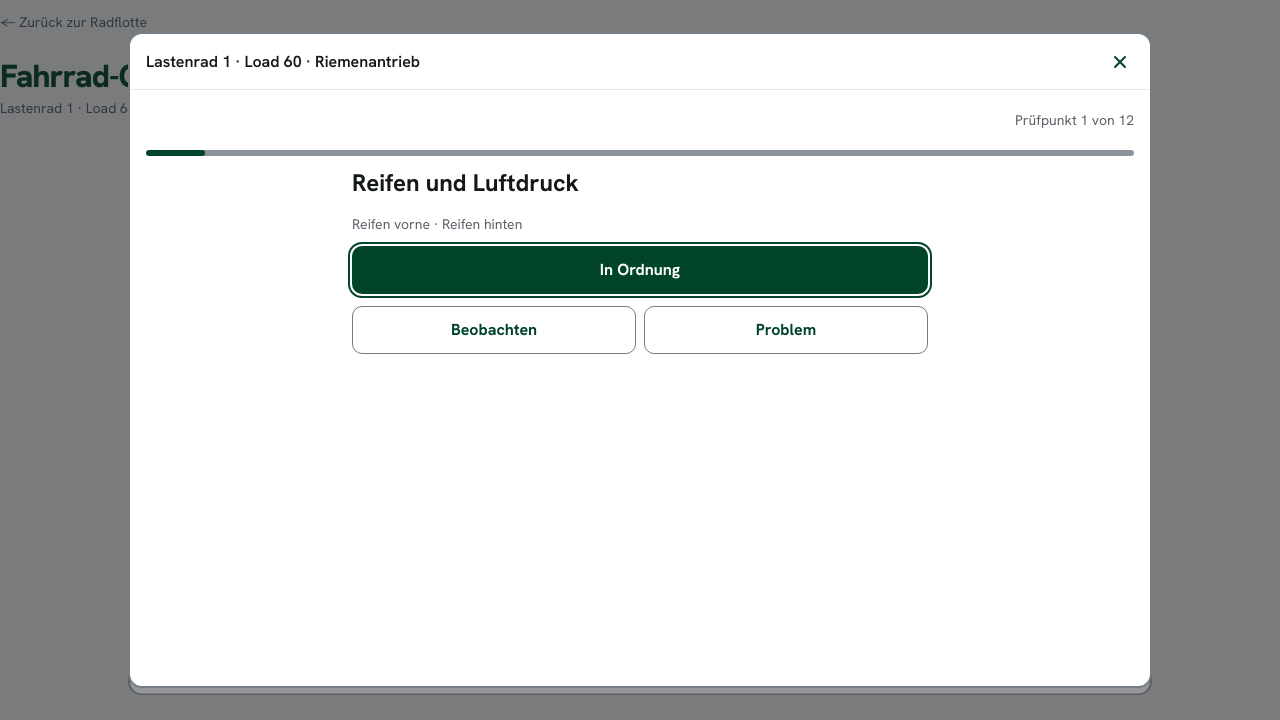
Test case: Geführter Check-Up › fragt bei einem Punkt mit nur einem Bauteil nicht „Wo genau?“; zurück ohne Stelle und Antwort
Click the button "In Ordnung": (640, 270) [352,246,928,294]
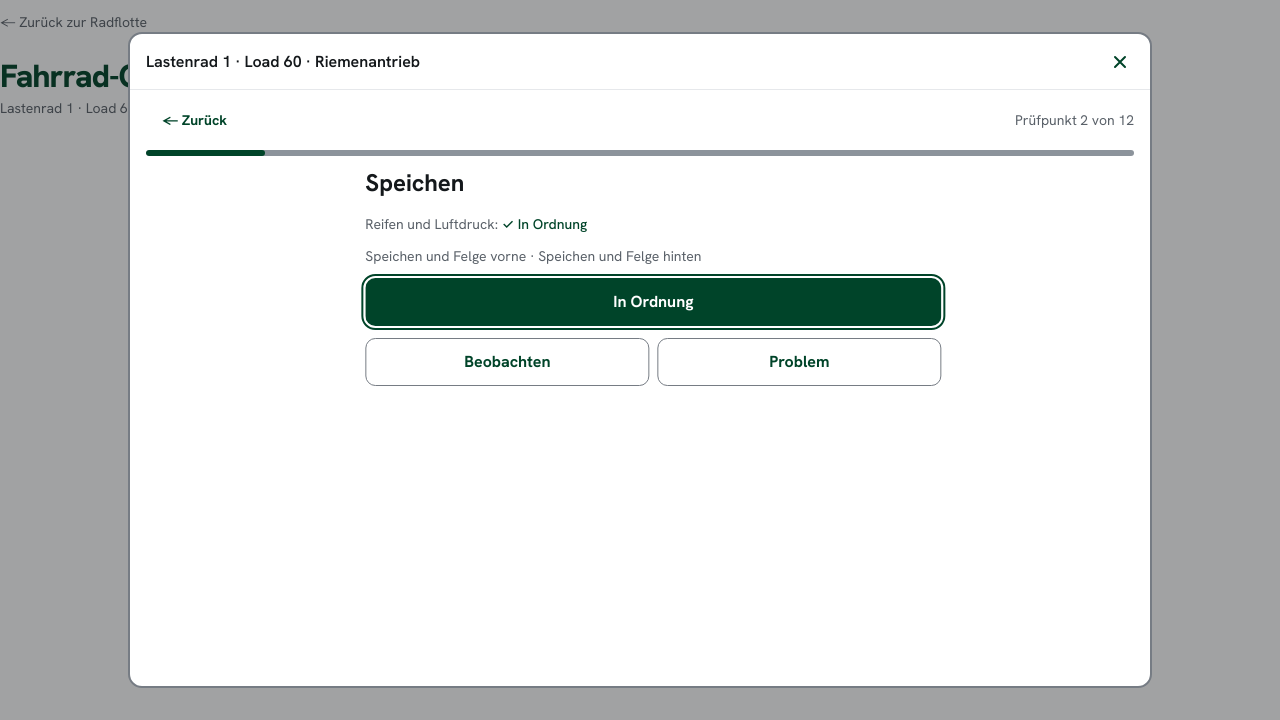
Click the button "In Ordnung" below "Prüfpunkt 2 von 12": (644, 302) [356,278,932,326]
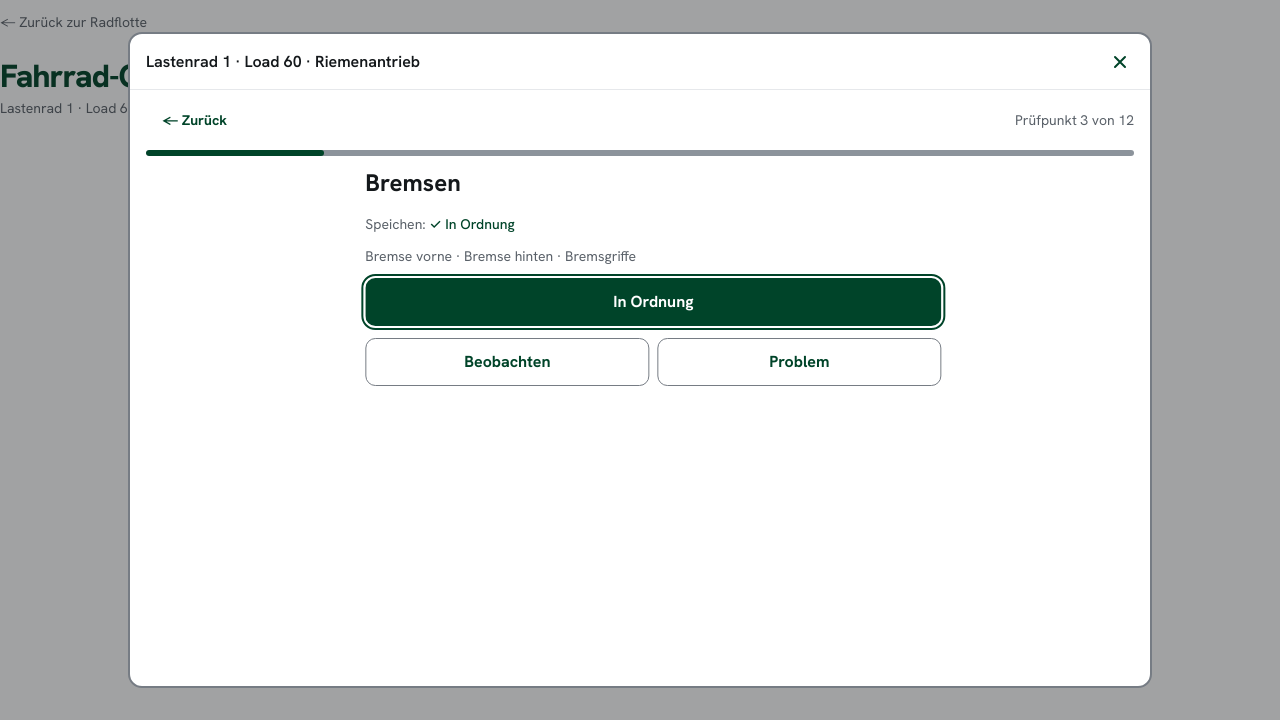
Click the button "In Ordnung": (644, 302) [356,278,932,326]
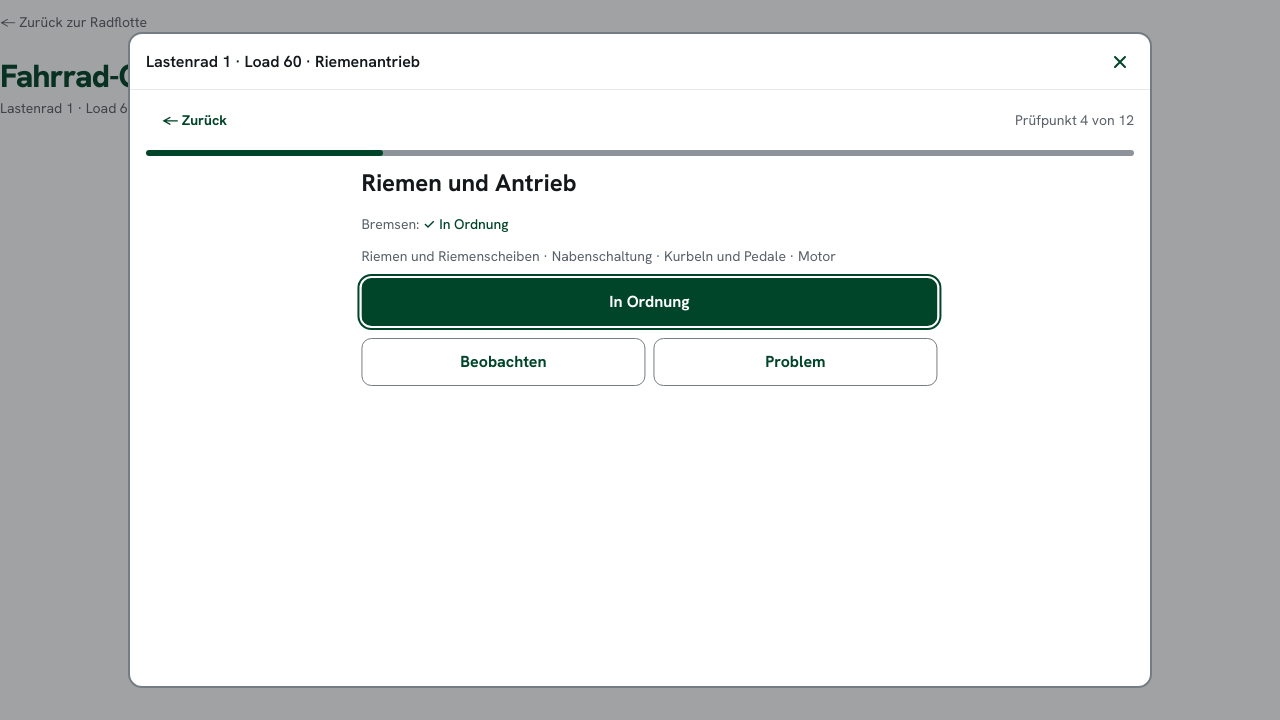
Click the button "In Ordnung": (644, 302) [356,278,932,326]
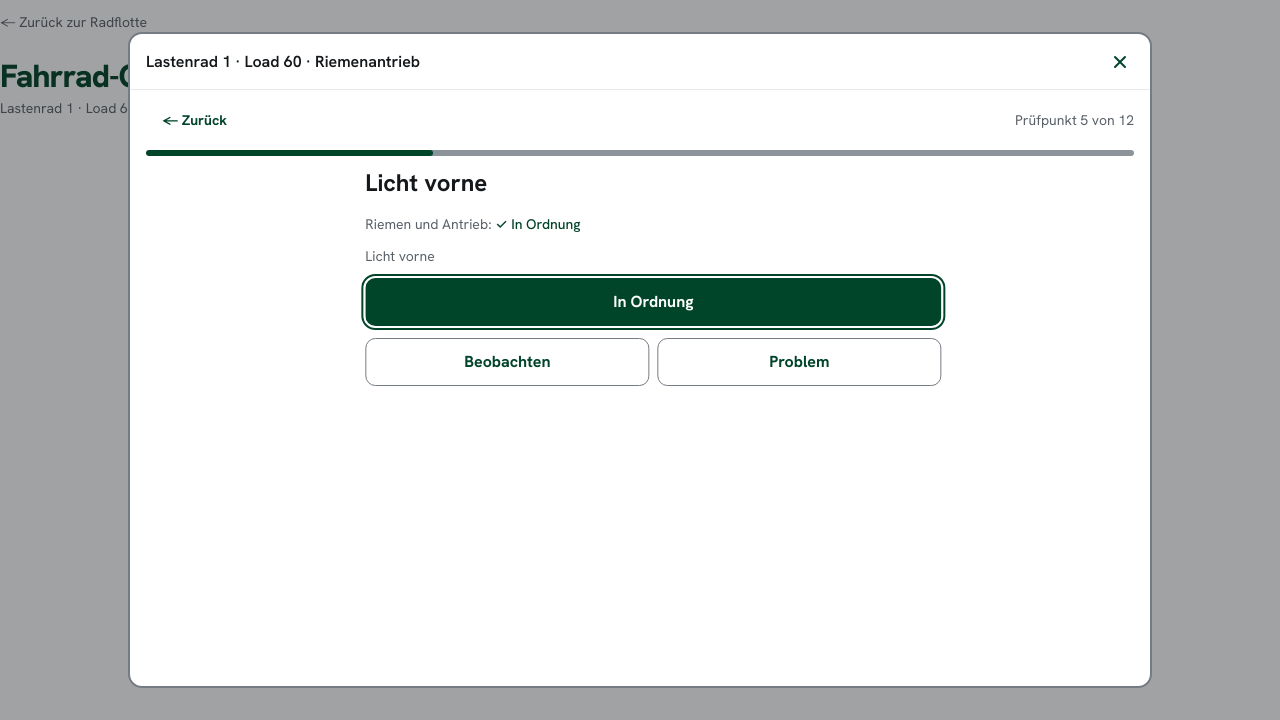
Click the button "Problem": (790, 362) [648,338,932,386]
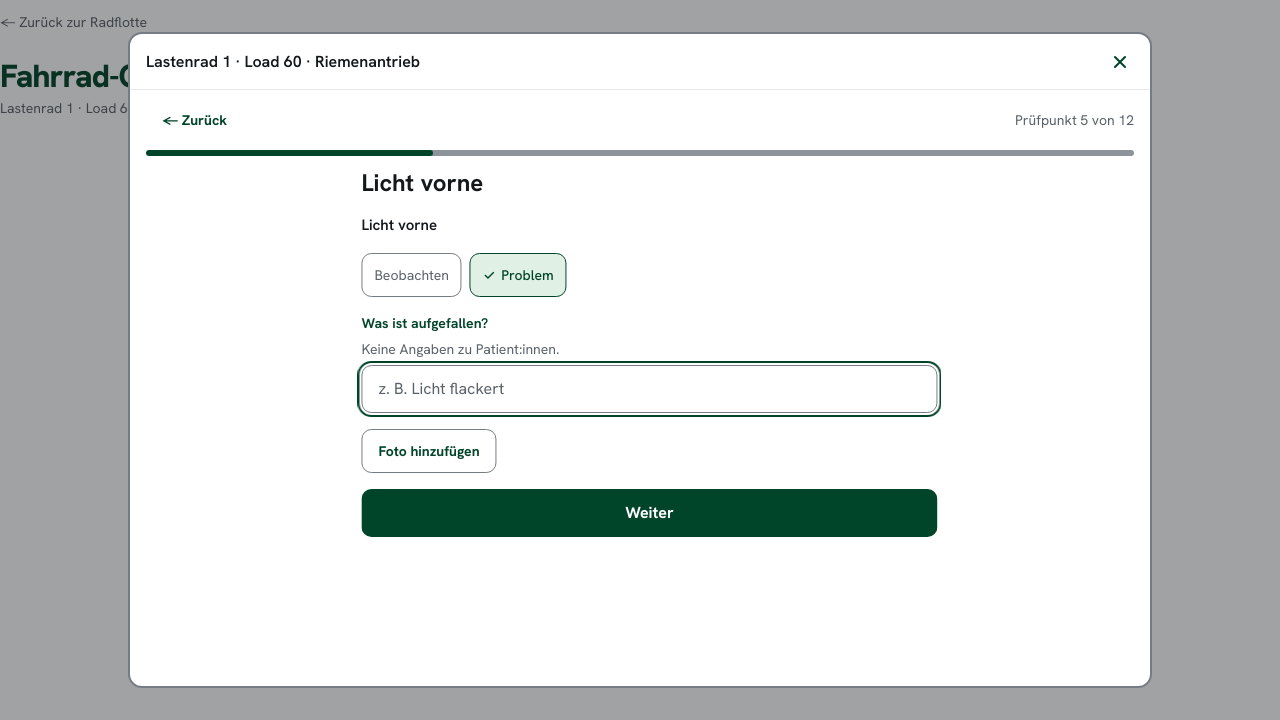
Expected: the text "Licht vorne" is shown, [354,215,430,235]
Click the button "← Zurück": (195, 120) [146,98,243,142]
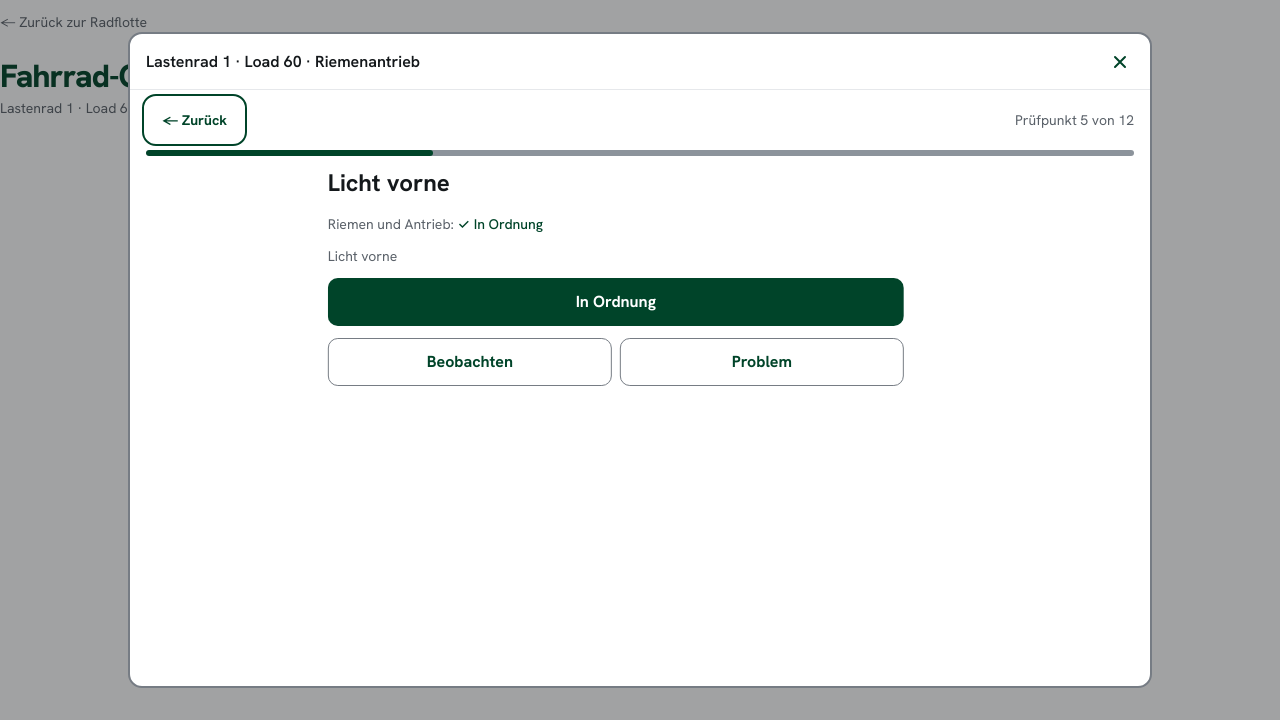
Expected: the button "In Ordnung" is shown, [343,278,919,326]
